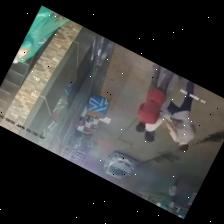person: (145, 74, 182, 141), (136, 64, 173, 131), (163, 81, 196, 151), (169, 175, 182, 197), (170, 197, 176, 209)
